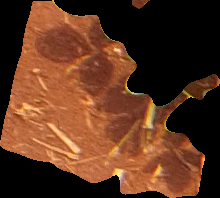soil: (3, 3, 220, 196)
